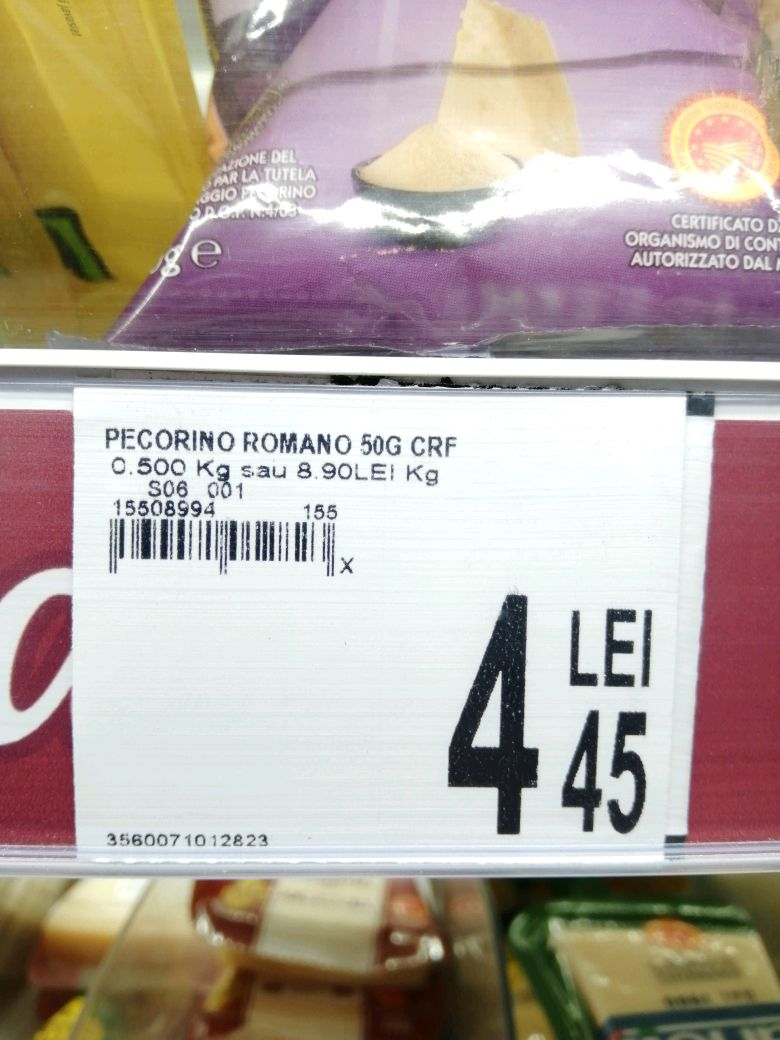price_bani: (564, 701, 657, 834)
price_lei: (424, 582, 553, 832)
price_tag: (61, 373, 699, 883)
product_id: (93, 825, 282, 859)
product_name: (85, 423, 477, 463)
